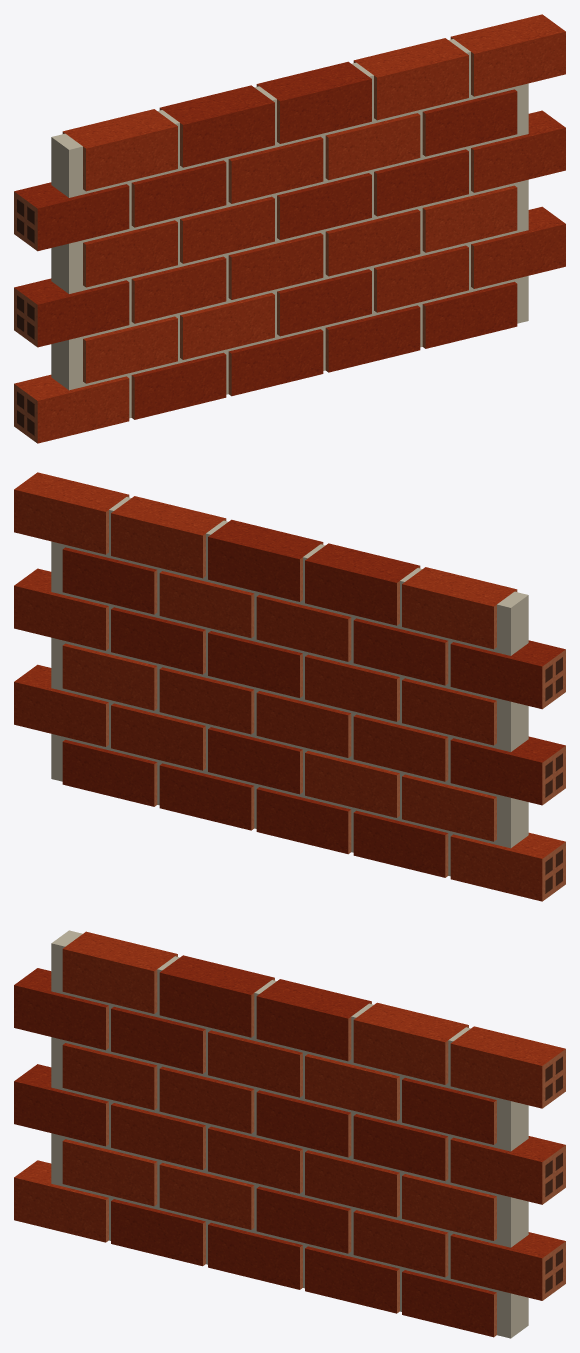
The model's file is gach.glb.
3 renders of one model, top to bottom at view 1: azimuth 30°, elevation 25°; view 2: azimuth 150°, elevation 25°; view 3: azimuth 330°, elevation 25°, orthographic.
Bounding box in the file's own units: 2.07 × 1.06 × 0.16.
Materials: 5 (4 with a texture image).
